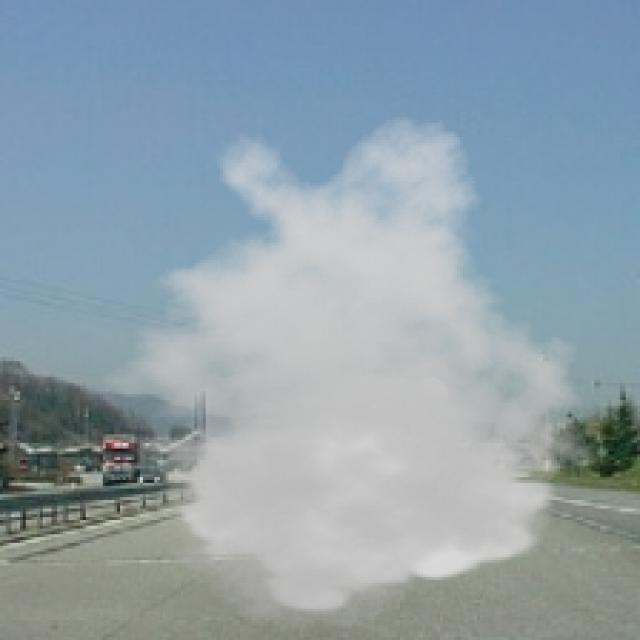smoke: (74, 114, 606, 632)
